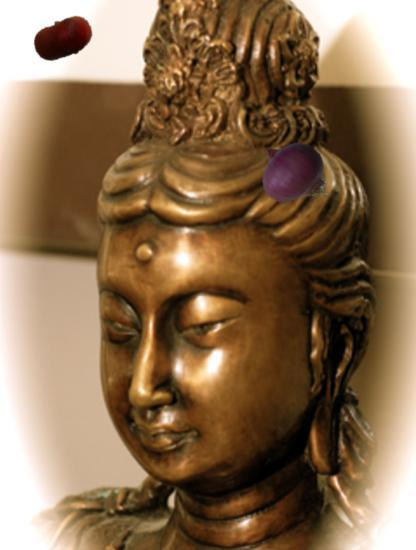Nectarine: (33, 8, 94, 69)
Onion: (255, 134, 336, 215)
